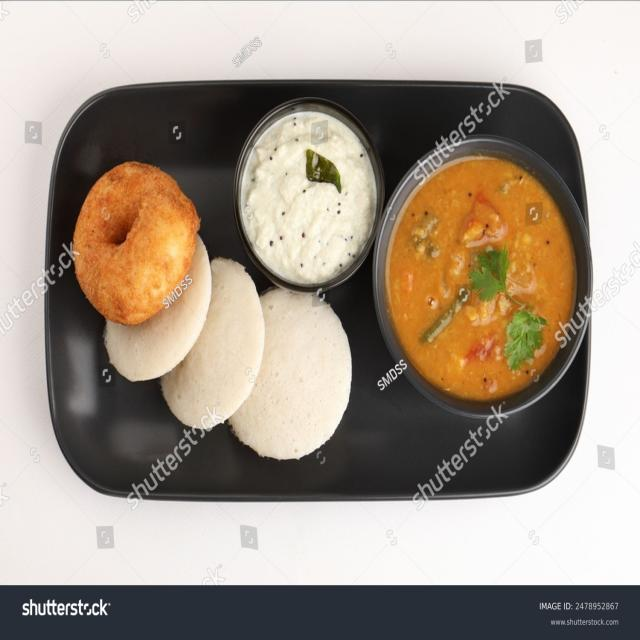IDLI: (226, 288, 354, 461), (164, 265, 266, 422), (105, 238, 211, 377)
MEDU VADA: (75, 161, 199, 325)
